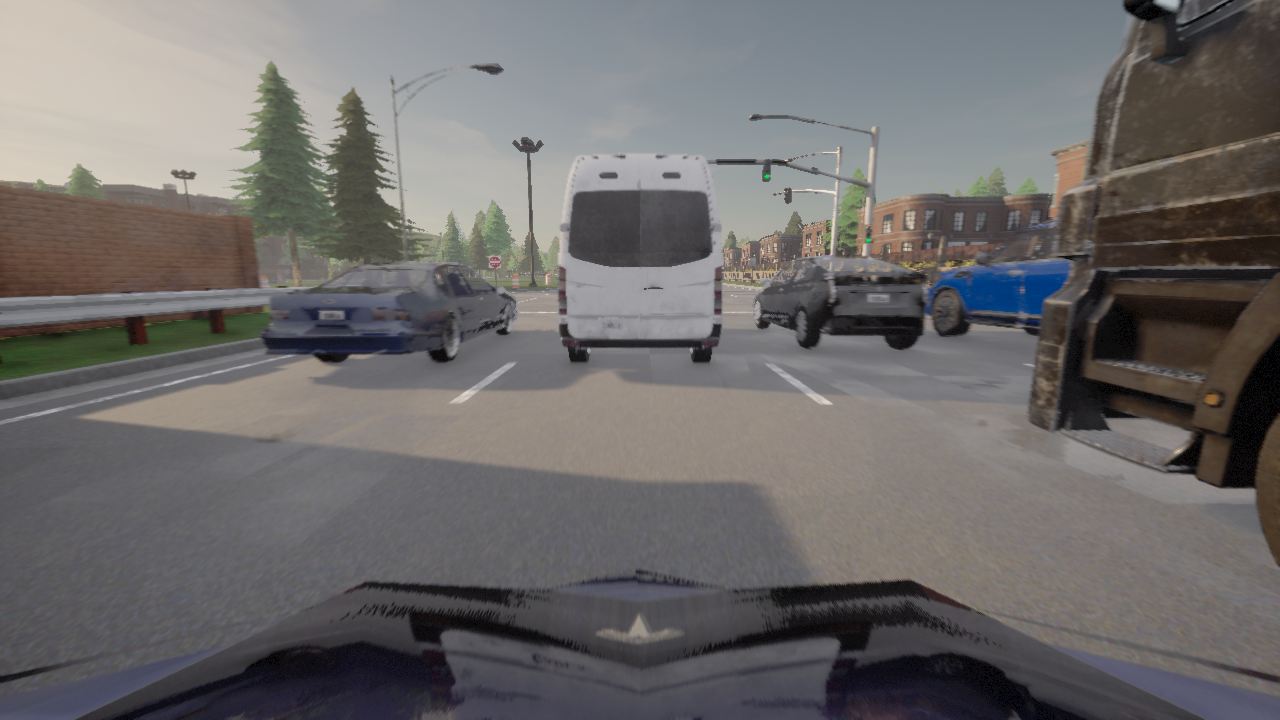cyclist: (0, 569, 1279, 719), (1027, 0, 1279, 567), (557, 153, 722, 362), (259, 261, 518, 361), (925, 218, 1071, 335), (753, 256, 927, 348)
